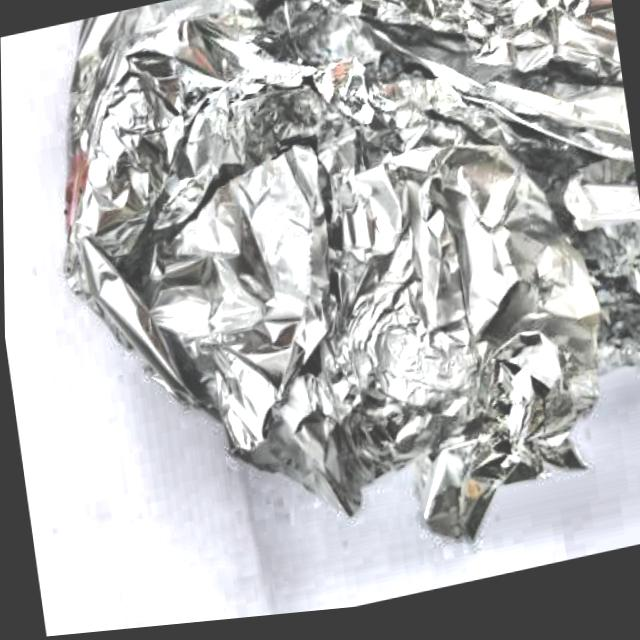Foil: (27, 0, 640, 632)
